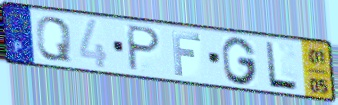4: (77, 17, 111, 70)
F: (170, 29, 203, 78)
G: (220, 35, 260, 86)
L: (263, 39, 301, 93)
P: (127, 23, 164, 73)
Q: (34, 15, 73, 64)
